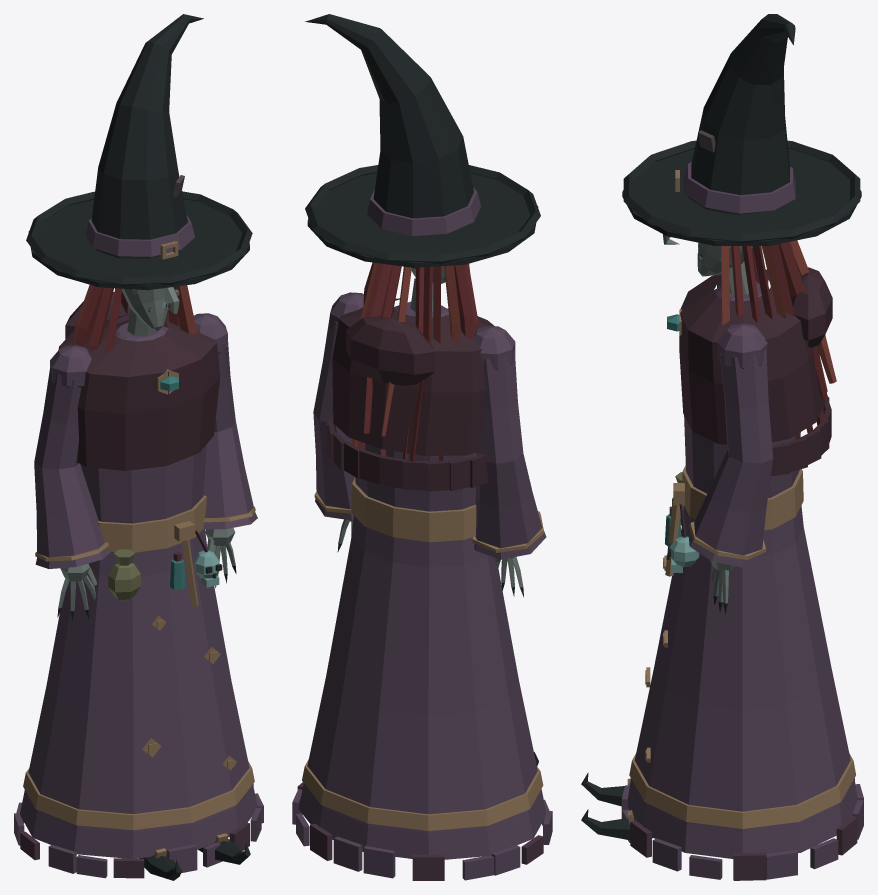
File: vrajitoare_sefa_lupta.glb
The picture shows the model from 3 angles, left to right: view 1: azimuth 30°, elevation 25°; view 2: azimuth 150°, elevation 25°; view 3: azimuth 270°, elevation 25°; orthographic projection. The views are drawn at different scales.
Parts seen in each view (by area): view 1: Corp, Cap, BratDrept, BratStang; view 2: Corp, Cap, BratDrept, BratStang; view 3: Corp, Cap, BratStang.
Boxes of the visible parts, x1,y1,x2,y2 form: Corp: (14, 292, 263, 880); Cap: (26, 14, 252, 353); BratDrept: (34, 345, 110, 620); BratStang: (194, 313, 257, 587); Corp: (292, 298, 552, 880); Cap: (305, 14, 540, 461); BratDrept: (472, 326, 546, 597); BratStang: (313, 292, 363, 552); Corp: (581, 267, 863, 880); Cap: (622, 14, 861, 439); BratStang: (688, 323, 773, 614).
Bounding box in the file's own units: 0.7051 × 2.39 × 0.7327.
